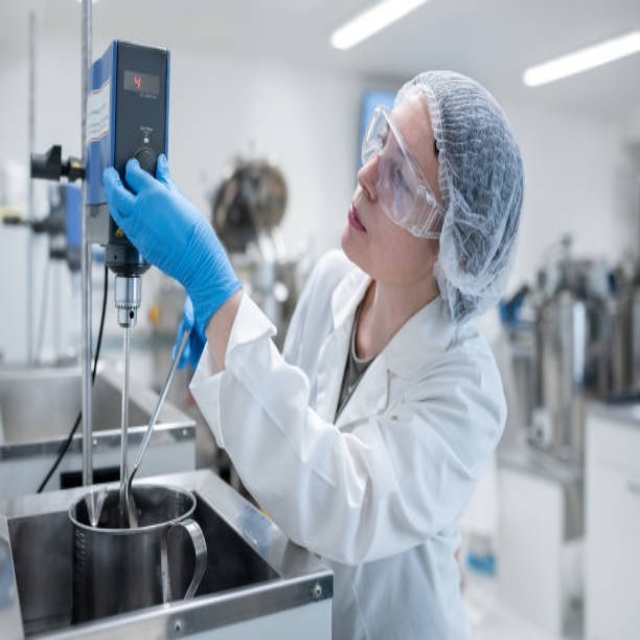Gafas: (362, 105, 445, 239)
Guantes: (105, 147, 243, 334)
Sin_mascara: (343, 180, 373, 260)
